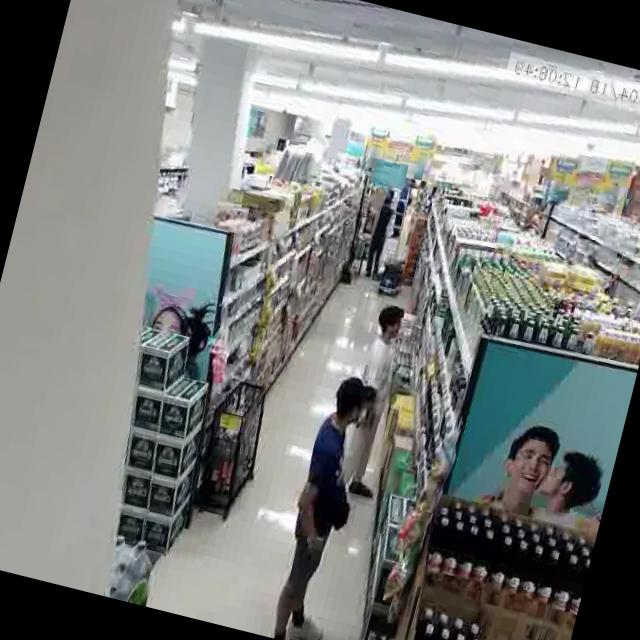shoplifting: (246, 354, 399, 640)
